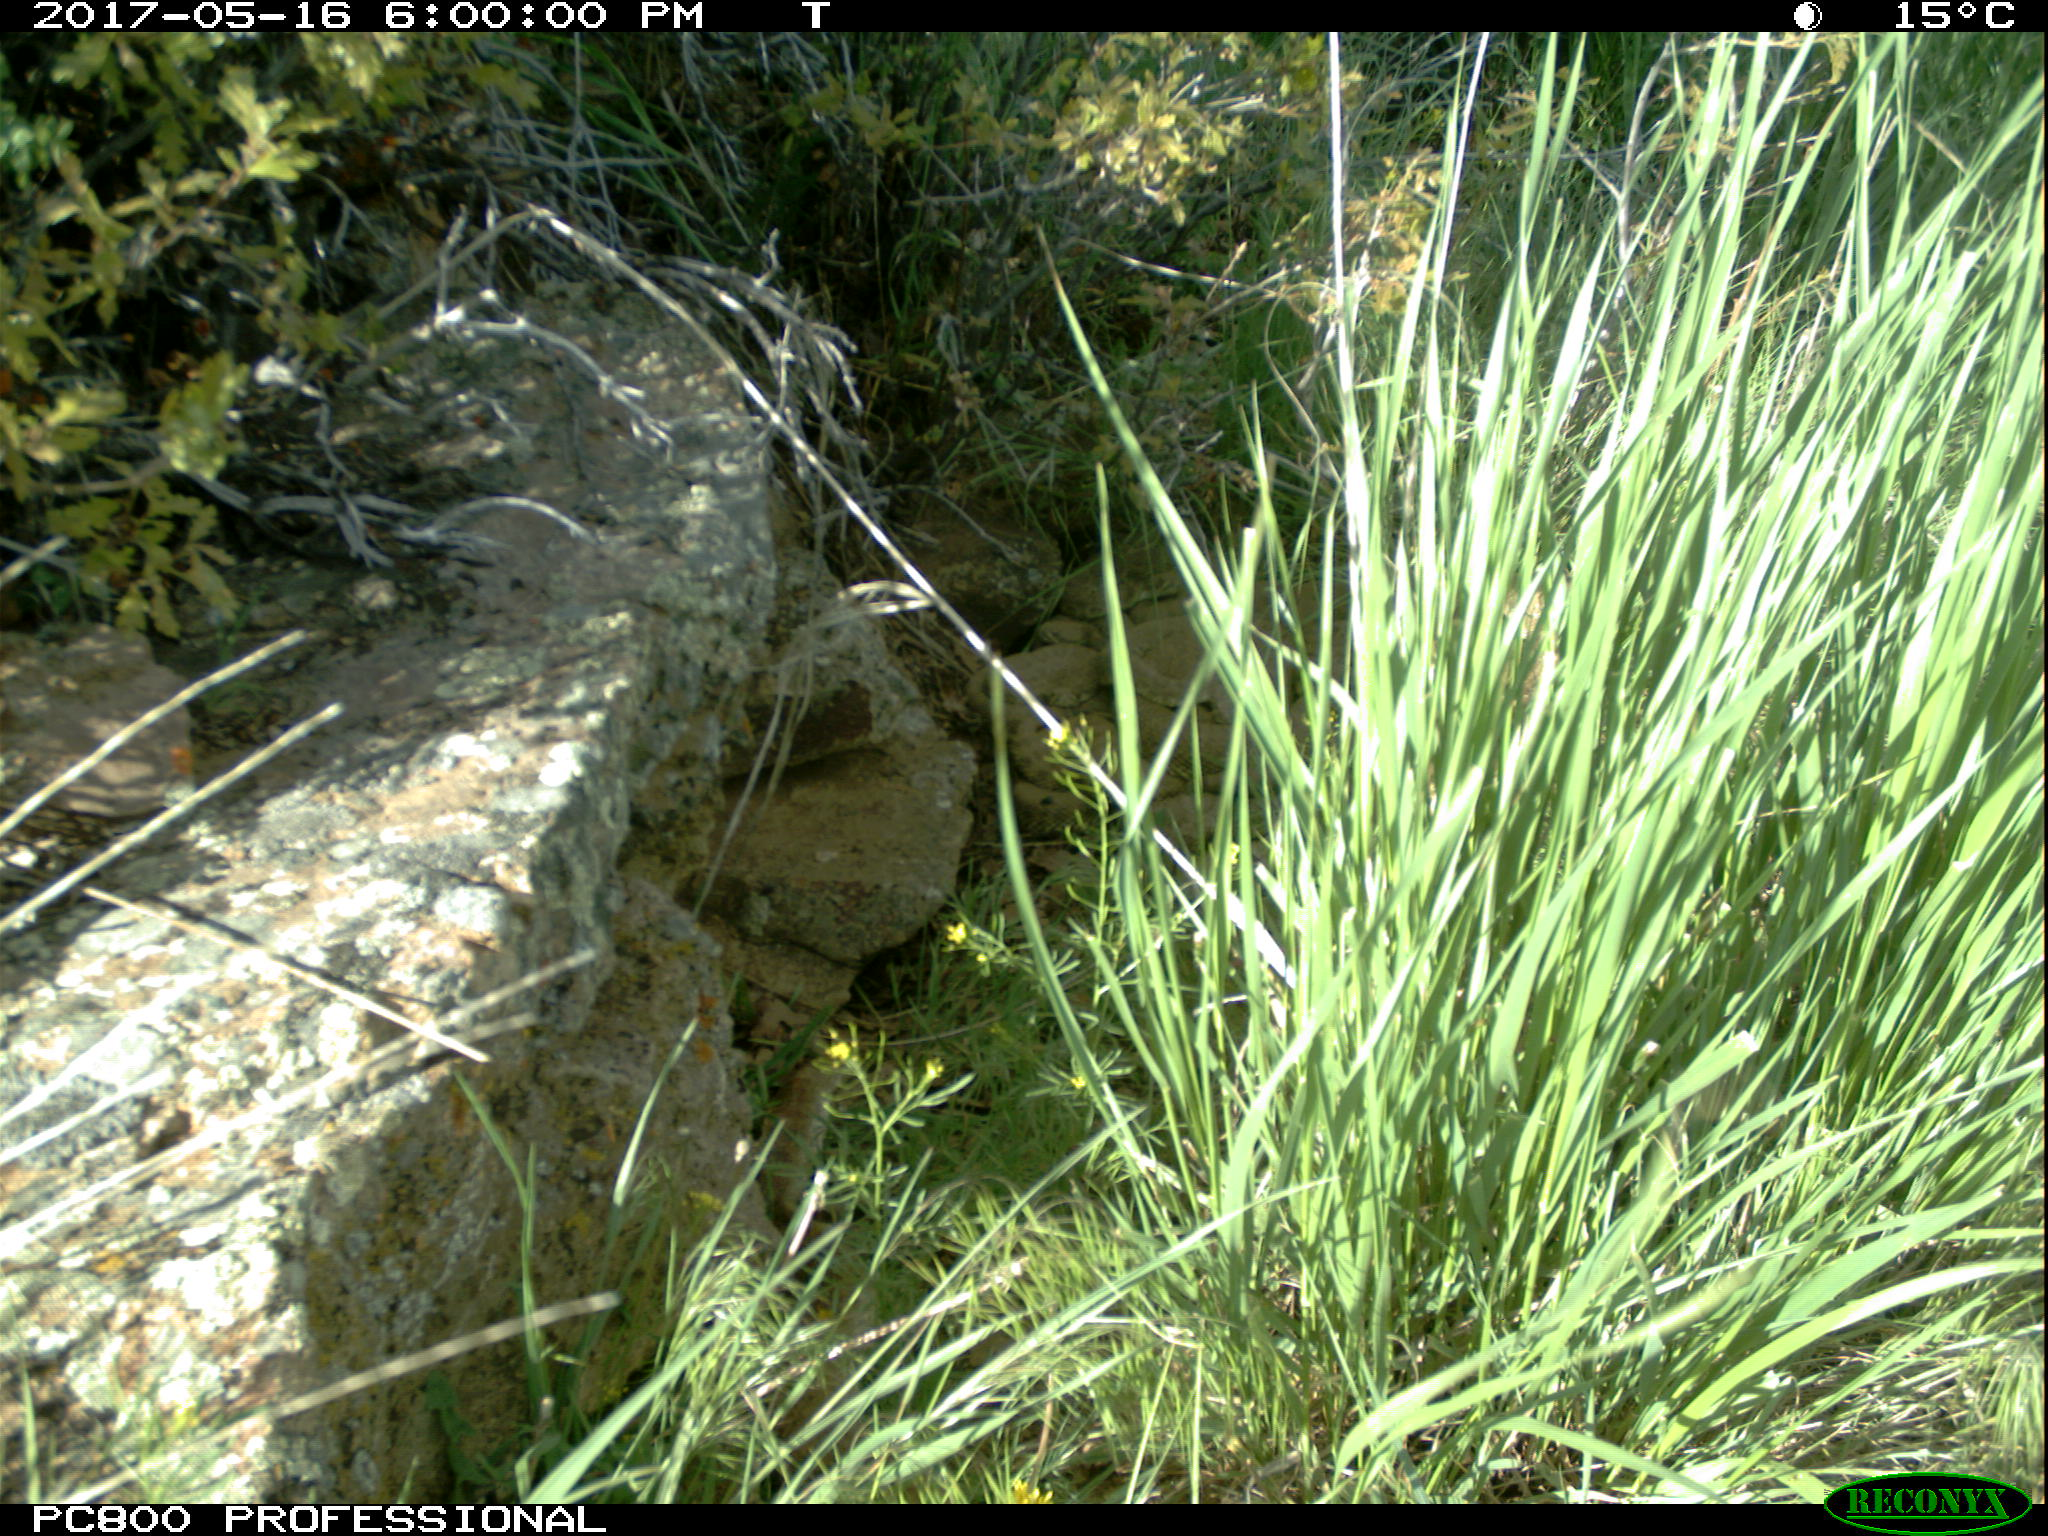snake: (971, 644, 1113, 799), (1108, 615, 1234, 707)
